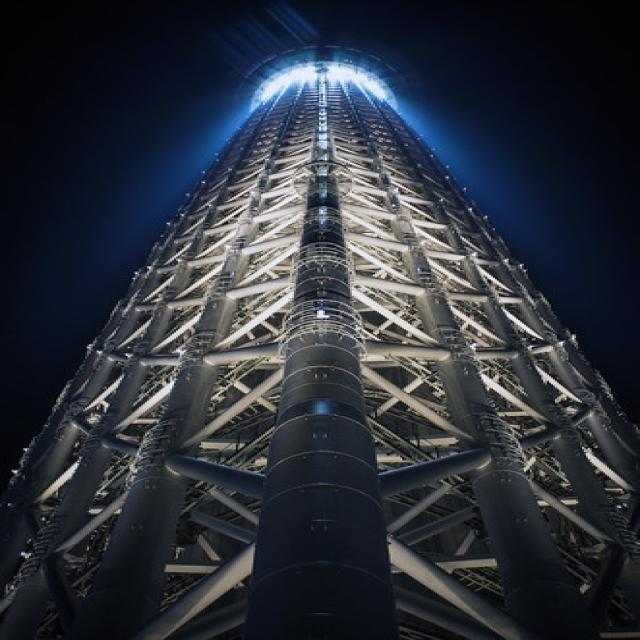building: (9, 57, 640, 640)
